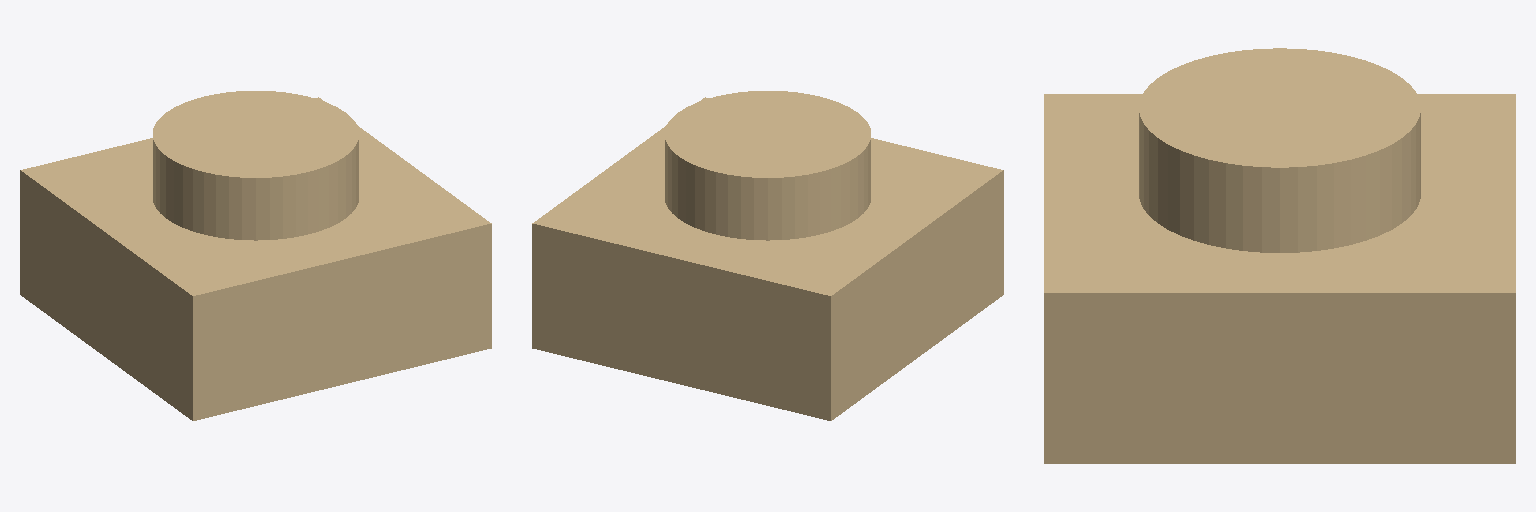
robot.urdf — 3024__tan:
<?xml version="1.0"?>
<robot name="3024__tan">
  <link name="3024__tan">
    <inertial>
      <origin xyz="0.000000 -0.000000 -0.001063" rpy="0 0 0"/>
      <mass value="0.000282"/>
      <inertia ixx="1.850191840e-09" ixy="-0.000000000e+00" ixz="-8.669581348e-27" iyy="1.850191840e-09" iyz="5.288950594e-26" izz="2.788847423e-09"/>
    </inertial>
    <visual>
      <geometry>
        <mesh filename="../meshes/visual/3024.obj" scale="1 1 1"/>
      </geometry>
      <material name="3024__tan_color">
        <color rgba="0.860 0.770 0.610 1.000"/>
      </material>
    </visual>
    <collision>
      <geometry>
        <mesh filename="../meshes/collision/3024_hull.obj" scale="1 1 1"/>
      </geometry>
    </collision>
  </link>
</robot>

--- Render facts (derived) ---
Views: 3 orthographic renders of the robot side by side, from view 1: azimuth 30°, elevation 25°; view 2: azimuth 150°, elevation 25°; view 3: azimuth 270°, elevation 25°.
Model 3024__tan with 1 links and 0 joints (none), rooted at 3024__tan, posed every joint at zero.
Visible links, largest first — view 1: 3024__tan; view 2: 3024__tan; view 3: 3024__tan.
Link boxes in pixels (box(x1,y1,x2,y2)): 3024__tan: box(20, 91, 491, 420); 3024__tan: box(532, 91, 1003, 420); 3024__tan: box(1044, 48, 1515, 463).
Size in the robot's own frame: 0.008 by 0.008 by 0.0048 metres.
1 mesh visuals loaded from 1 distinct referenced files (1 OBJ).
